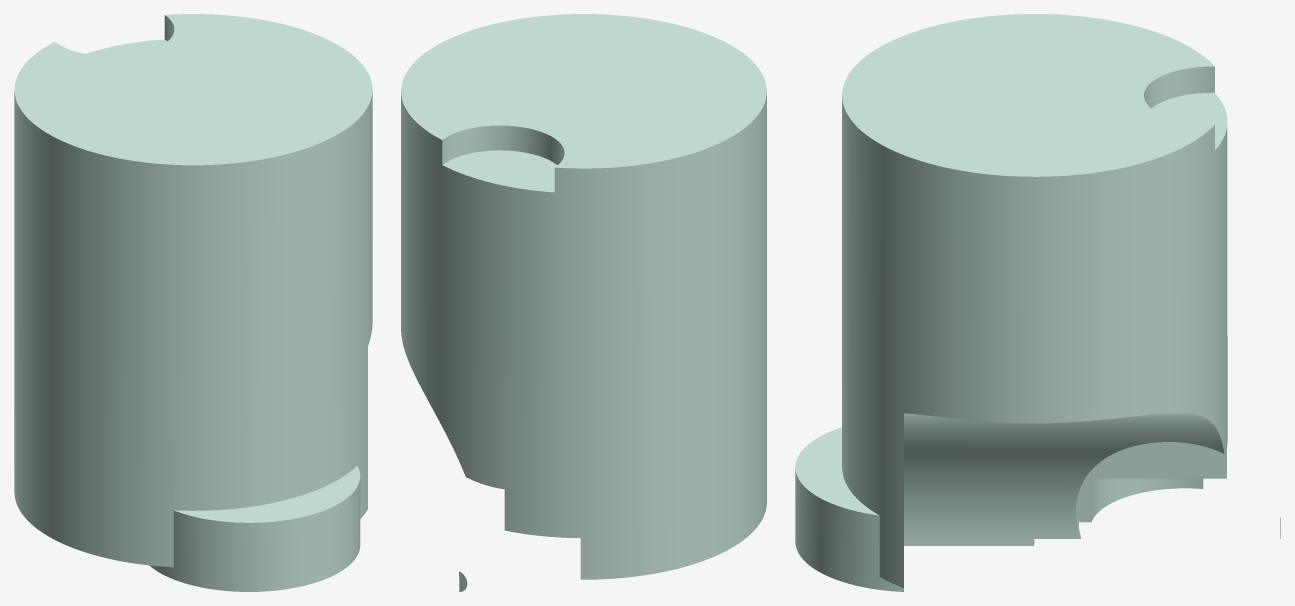
3 renders of one model, left to right at view 1: azimuth 30°, elevation 25°; view 2: azimuth 150°, elevation 25°; view 3: azimuth 270°, elevation 25°, orthographic. The views are drawn at different scales.
Visible parts, largest first — view 1: Renderer Node; view 2: Renderer Node; view 3: Renderer Node.
Part boxes in pixels (box(x1,y1,x2,y2)): Renderer Node: box(14, 14, 372, 591); Renderer Node: box(401, 14, 766, 591); Renderer Node: box(795, 14, 1280, 591).
Size of the model in its own units: 0.6237 by 0.7969 by 0.7853.
